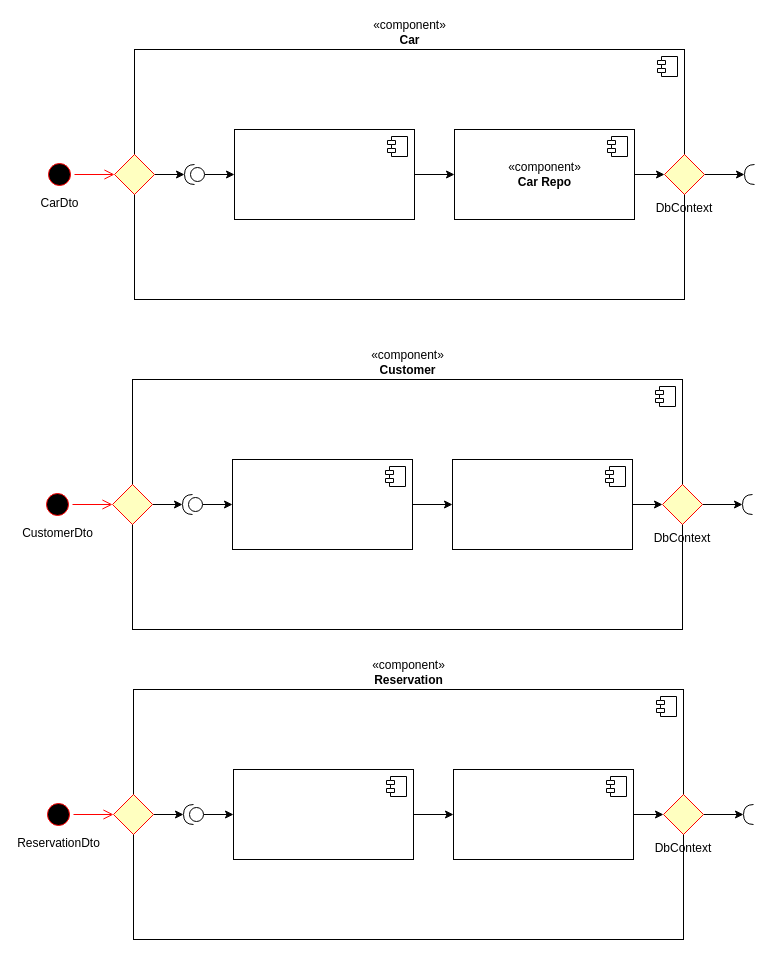
Some shapes in this 772 by 957 pixel diagram are drawn without their labels. Here are the shapes that lost their labels. From the top down, the centre of each, then its label:
[324,174]: «component» Car Service
[322,504]: «component» Customer Service
[542,504]: «component» Customer Repo
[323,814]: «component» Reservation Service
[543,814]: «component» Reservation Repo
